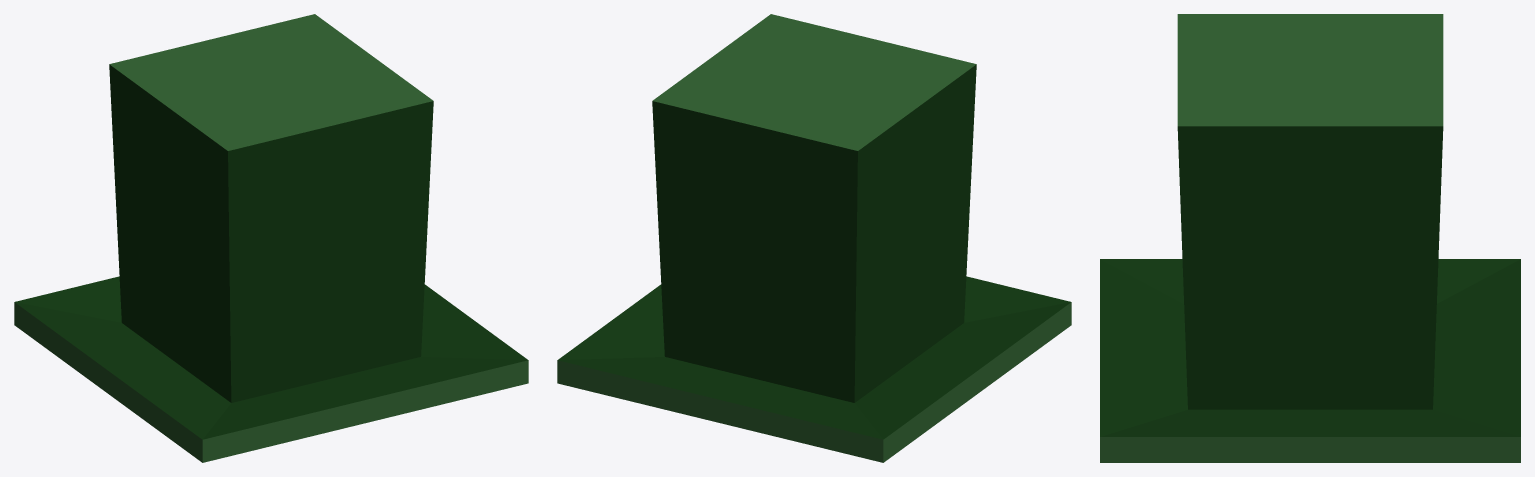
Rendered from tophat.obj.
The picture shows the model from 3 angles, left to right: view 1: azimuth 30°, elevation 25°; view 2: azimuth 150°, elevation 25°; view 3: azimuth 270°, elevation 25°; orthographic projection. The views are drawn at different scales.
Visible parts, largest first — view 1: Cube; view 2: Cube; view 3: Cube.
Boxes of the visible parts, <box> form: Cube: <box>14,14,528,462</box>; Cube: <box>557,14,1071,462</box>; Cube: <box>1100,14,1520,462</box>.
Size of the model in its own units: 0.1937 by 0.1543 by 0.1937.
